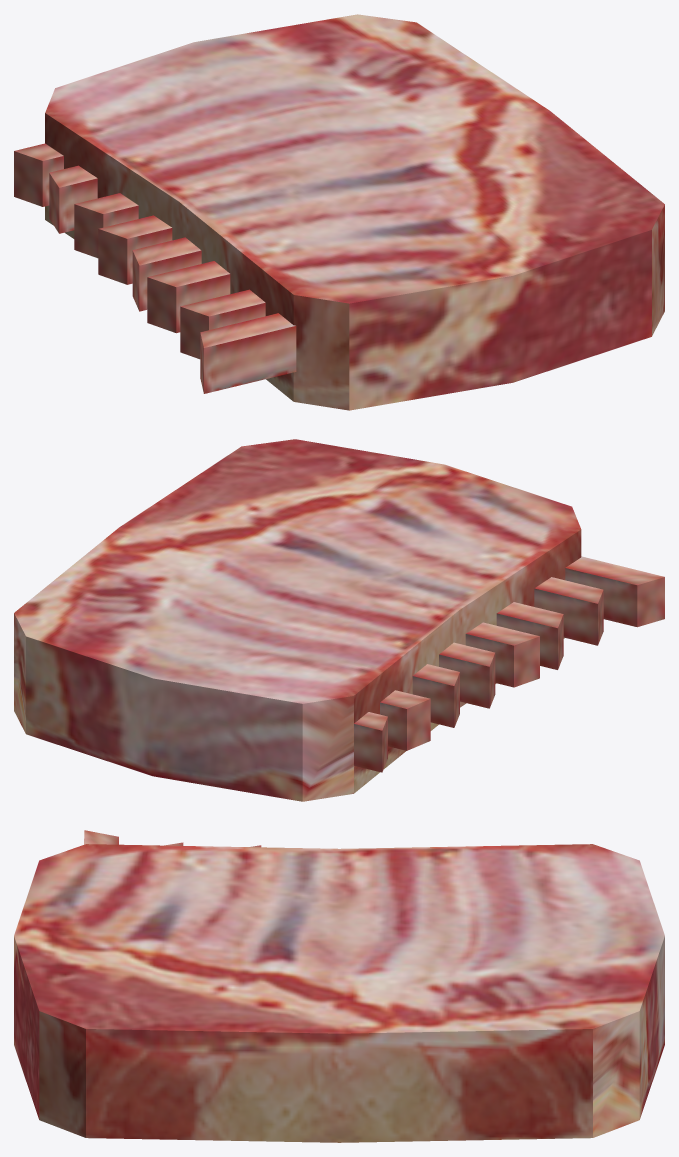
Rendered from meat2.FBX.
3 views of the same model, one above another, from view 1: azimuth 30°, elevation 25°; view 2: azimuth 150°, elevation 25°; view 3: azimuth 270°, elevation 25° (orthographic). The views are drawn at different scales.
Visible parts, largest first — view 1: Object429; view 2: Object429; view 3: Object429.
Boxes of the visible parts, x1,y1,x2,y2 form: Object429: [14, 14, 664, 410]; Object429: [14, 439, 664, 801]; Object429: [14, 830, 664, 1142].
Bounding box in the file's own units: 88.02 × 103 × 19.09.
